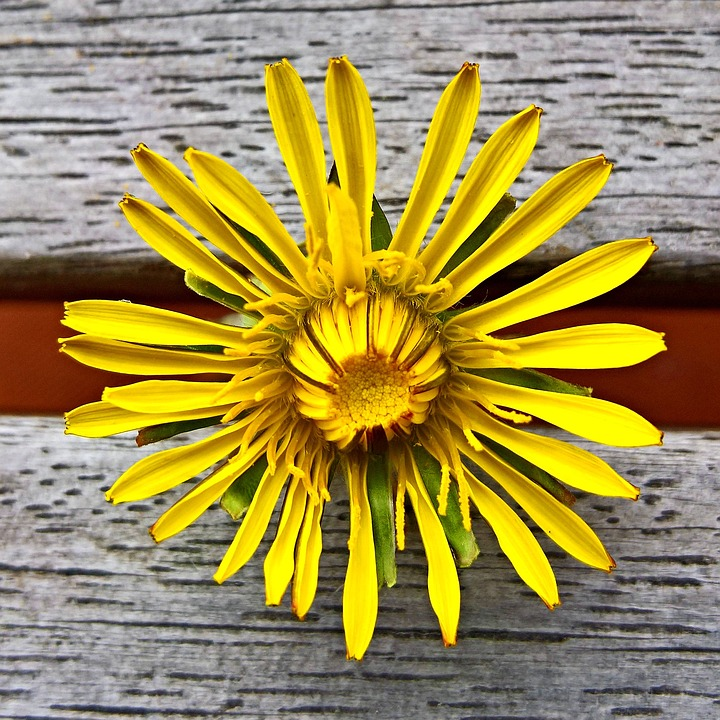dandelion: (117, 158, 617, 603)
